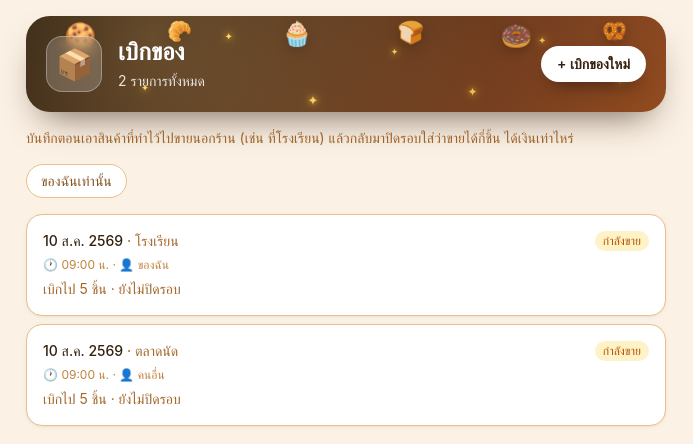
it: WithdrawalsPage — ของฉันเท่านั้น › เป็นพนักงานที่ผูกบัญชีไว้ กดกรองเหลือเฉพาะรายการของตัวเอง
The width and height of the screenshot is (693, 444).
expect the text "🕐 09:00 น. · 👤 ของฉัน" is shown: met, box [43,257,169,272]
expect the text "🕐 09:00 น. · 👤 คนอื่น" is shown: met, box [43,367,165,382]
Click the button "ของฉันเท่านั้น" at coordinates (76, 181), box [26,164,127,198]
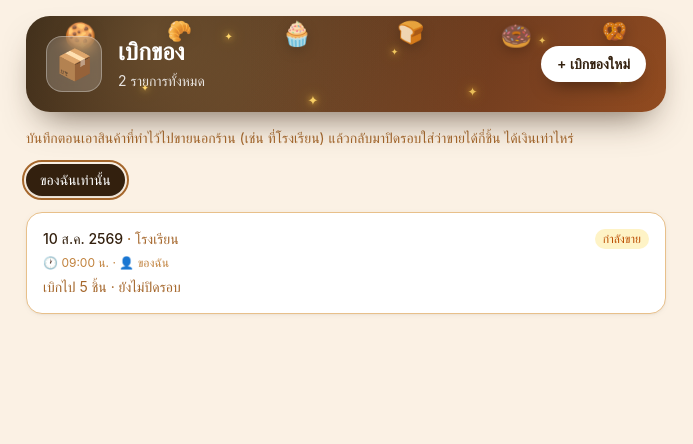
expect the text "🕐 09:00 น. · 👤 ของฉัน" is shown: met, box [43,255,169,270]
expect the link "👤 คนอื่น" is gone: met
